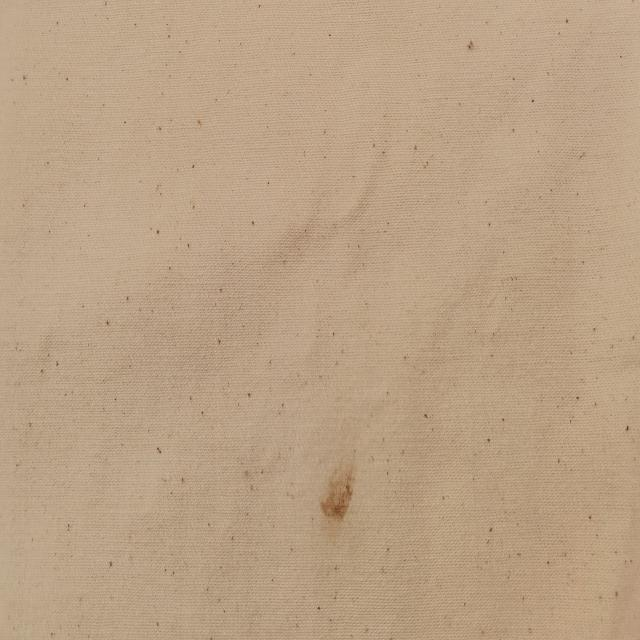taaaches: (312, 448, 358, 528)
